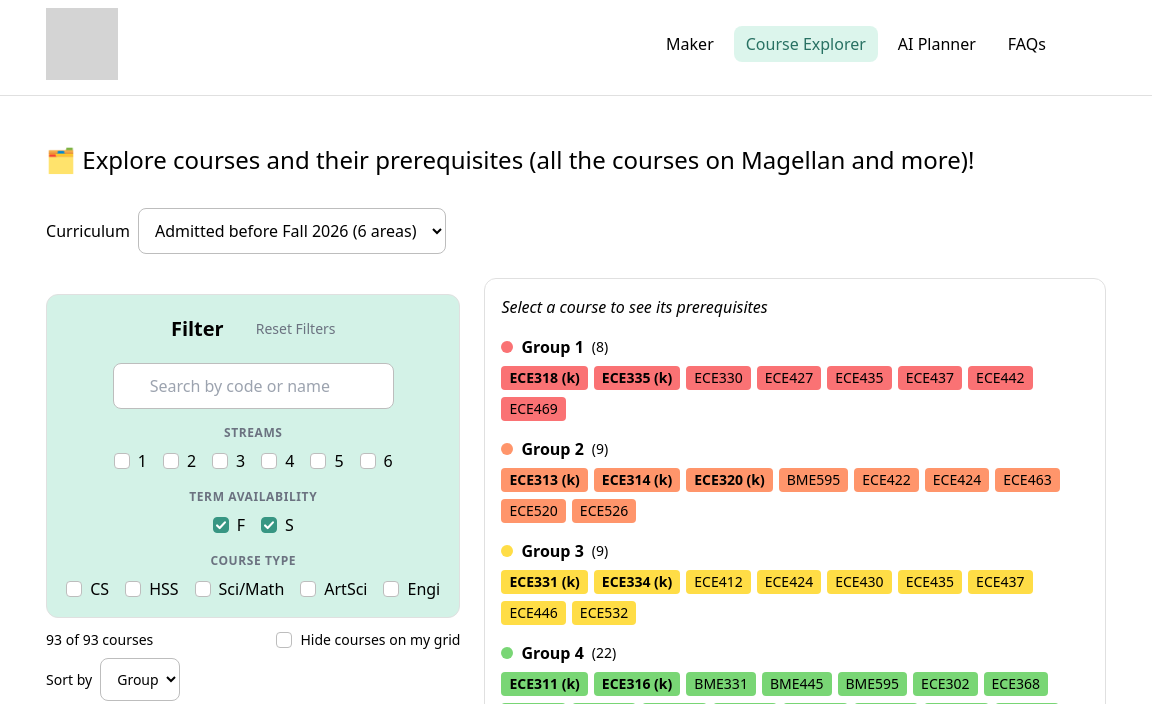
Test: Courses page › shows no results message for garbage search
This screenshot has width=1152, height=704.
Type "xxxxx" into the field with placeholder "Search by code or name" at (253, 386), box x1=113 y1=363 x2=394 y2=409
(page scrolled)
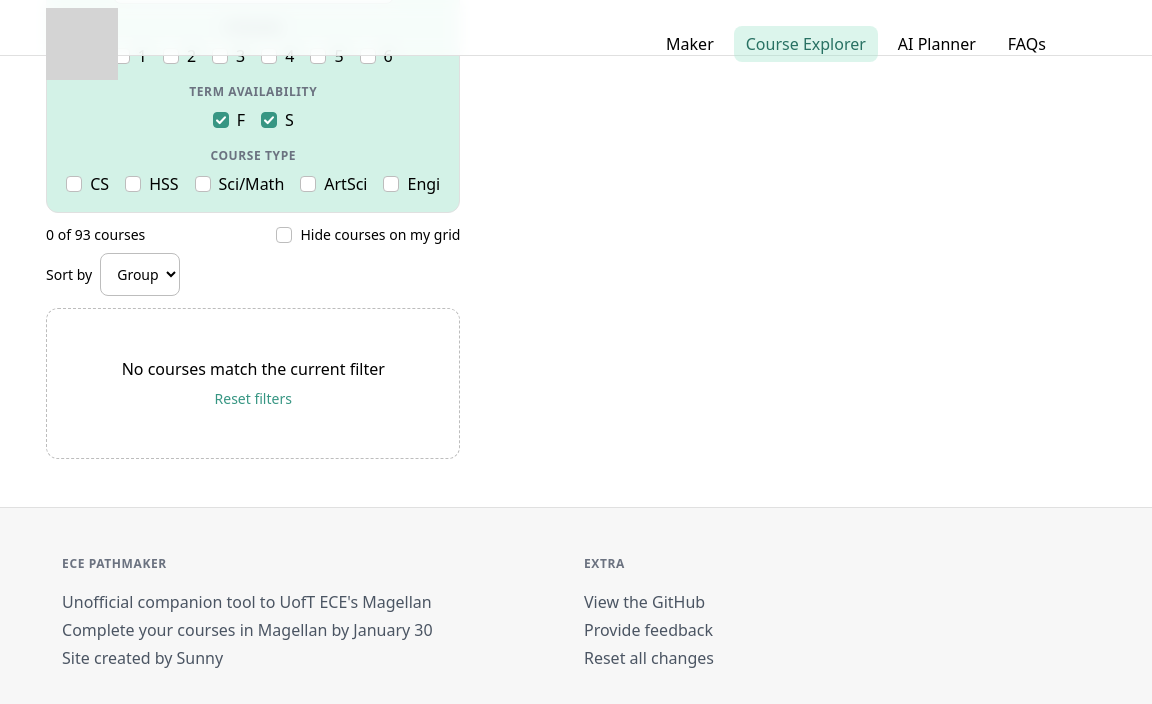
expect the text "No courses match the current filter" is shown: met, box x1=122 y1=358 x2=385 y2=380
